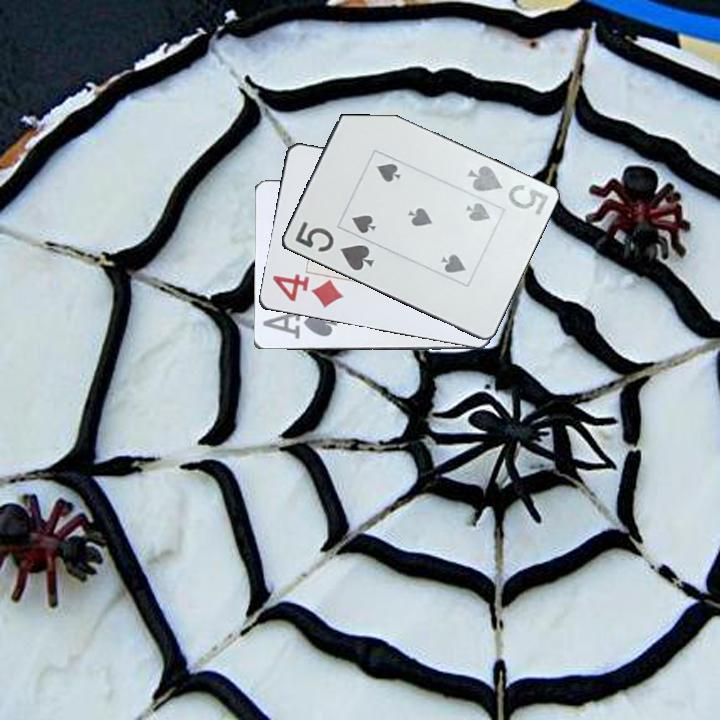4d: (269, 271, 346, 311)
5s: (463, 162, 551, 218), (291, 217, 376, 274)
As: (259, 307, 340, 342)
